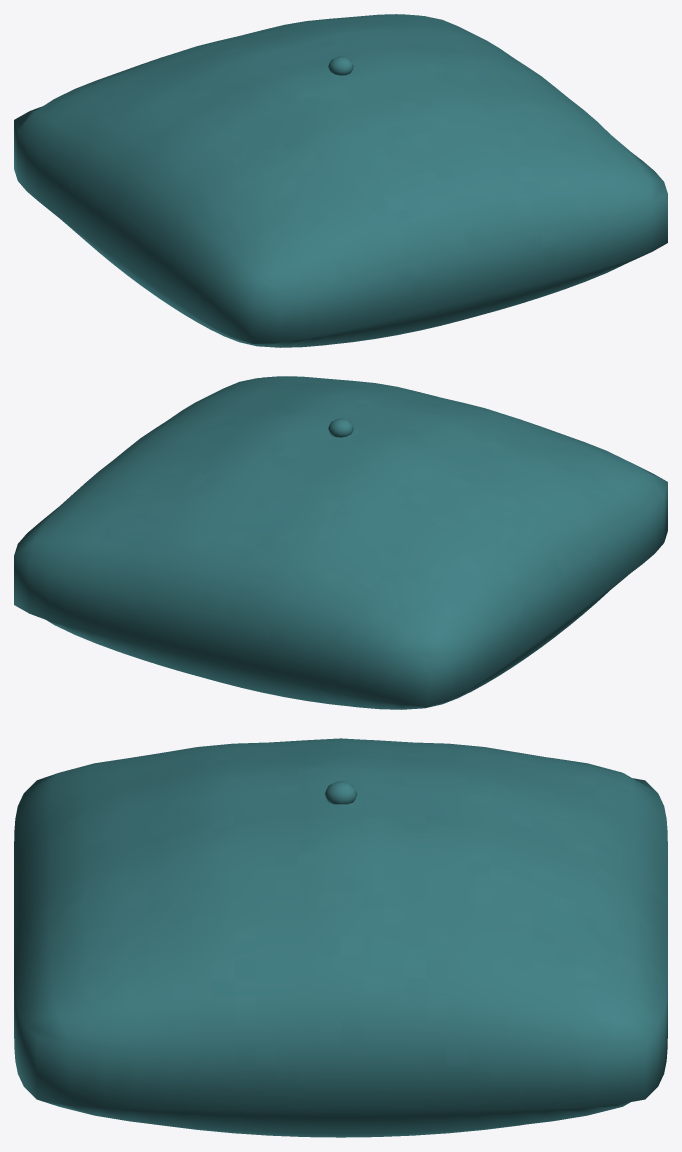
The model's file is pillow.glb.
The picture shows the model from 3 angles, top to bottom: view 1: azimuth 30°, elevation 25°; view 2: azimuth 150°, elevation 25°; view 3: azimuth 270°, elevation 25°; orthographic projection. The views are drawn at different scales.
Parts seen in each view (by area): view 1: Closed soft decorative cushion; view 2: Closed soft decorative cushion; view 3: Closed soft decorative cushion, Fabric covered center button.
Part boxes in pixels (x1,y1,x2,y2): Closed soft decorative cushion: (14,14,667,347); Closed soft decorative cushion: (14,376,667,709); Closed soft decorative cushion: (14,738,667,1137); Fabric covered center button: (324,781,357,804).
Bounding box in the file's own units: 0.48 × 0.2386 × 0.48.
Materials: 1 (1 with a texture image).
